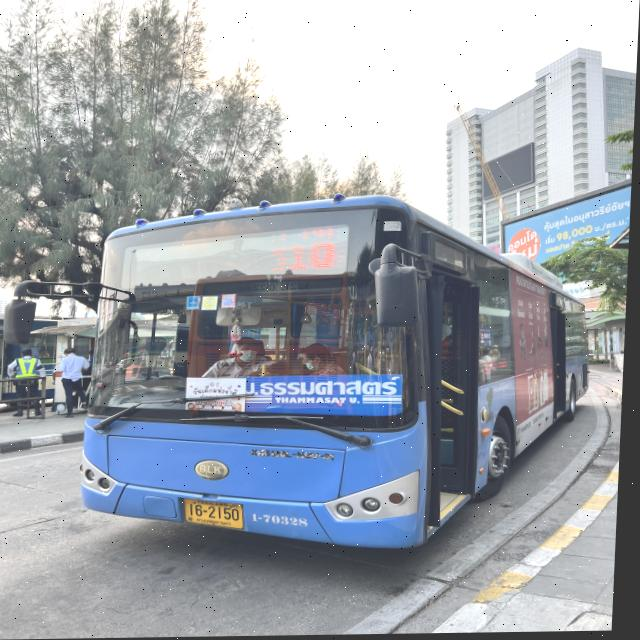BMTA-bus: (81, 194, 599, 558)
Bus-Line-Number: (263, 227, 350, 276)
Destination-Sign-Normal: (243, 372, 411, 419)
